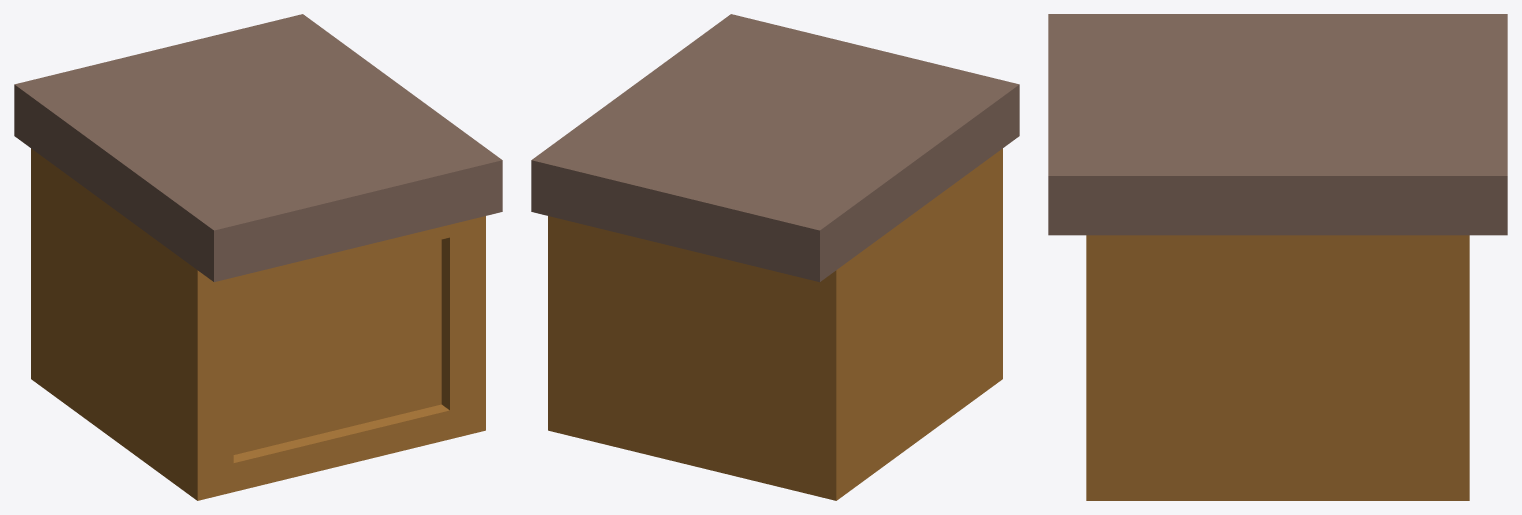
The model's file is middle part counter.fbx.
3 views of the same model, side by side, from view 1: azimuth 30°, elevation 25°; view 2: azimuth 150°, elevation 25°; view 3: azimuth 270°, elevation 25° (orthographic). The views are drawn at different scales.
Visible parts, largest first — view 1: mid_counter; view 2: mid_counter; view 3: mid_counter.
Boxes of the visible parts, x1,y1,x2,y2 form: mid_counter: (14, 14, 502, 500); mid_counter: (531, 14, 1019, 500); mid_counter: (1048, 14, 1507, 500).
Size of the model in its own units: 90.09 by 84.29 by 108.
Materials: 2 (2 with a texture image).
